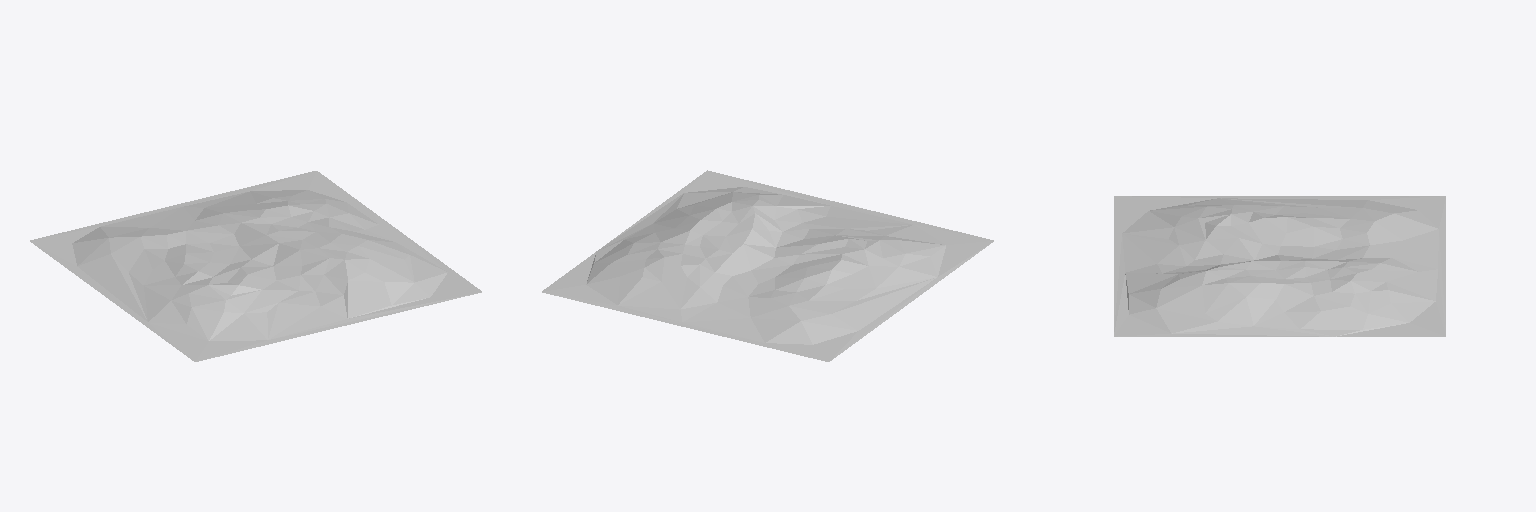
The model's file is landschap.obj.
3 views of the same model, side by side, from view 1: azimuth 30°, elevation 25°; view 2: azimuth 150°, elevation 25°; view 3: azimuth 270°, elevation 25° (orthographic).
Visible parts, largest first — view 1: Landscape; view 2: Landscape; view 3: Landscape.
Boxes of the visible parts, box(x1,y1,x2,y2) form: Landscape: box(30, 171, 481, 361); Landscape: box(542, 170, 993, 361); Landscape: box(1114, 196, 1445, 336).
Bounding box in the file's own units: 2 × 0.1396 × 2.